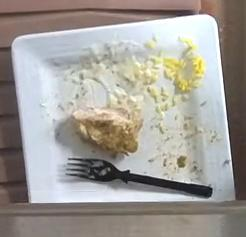fish: (73, 109, 137, 153)
